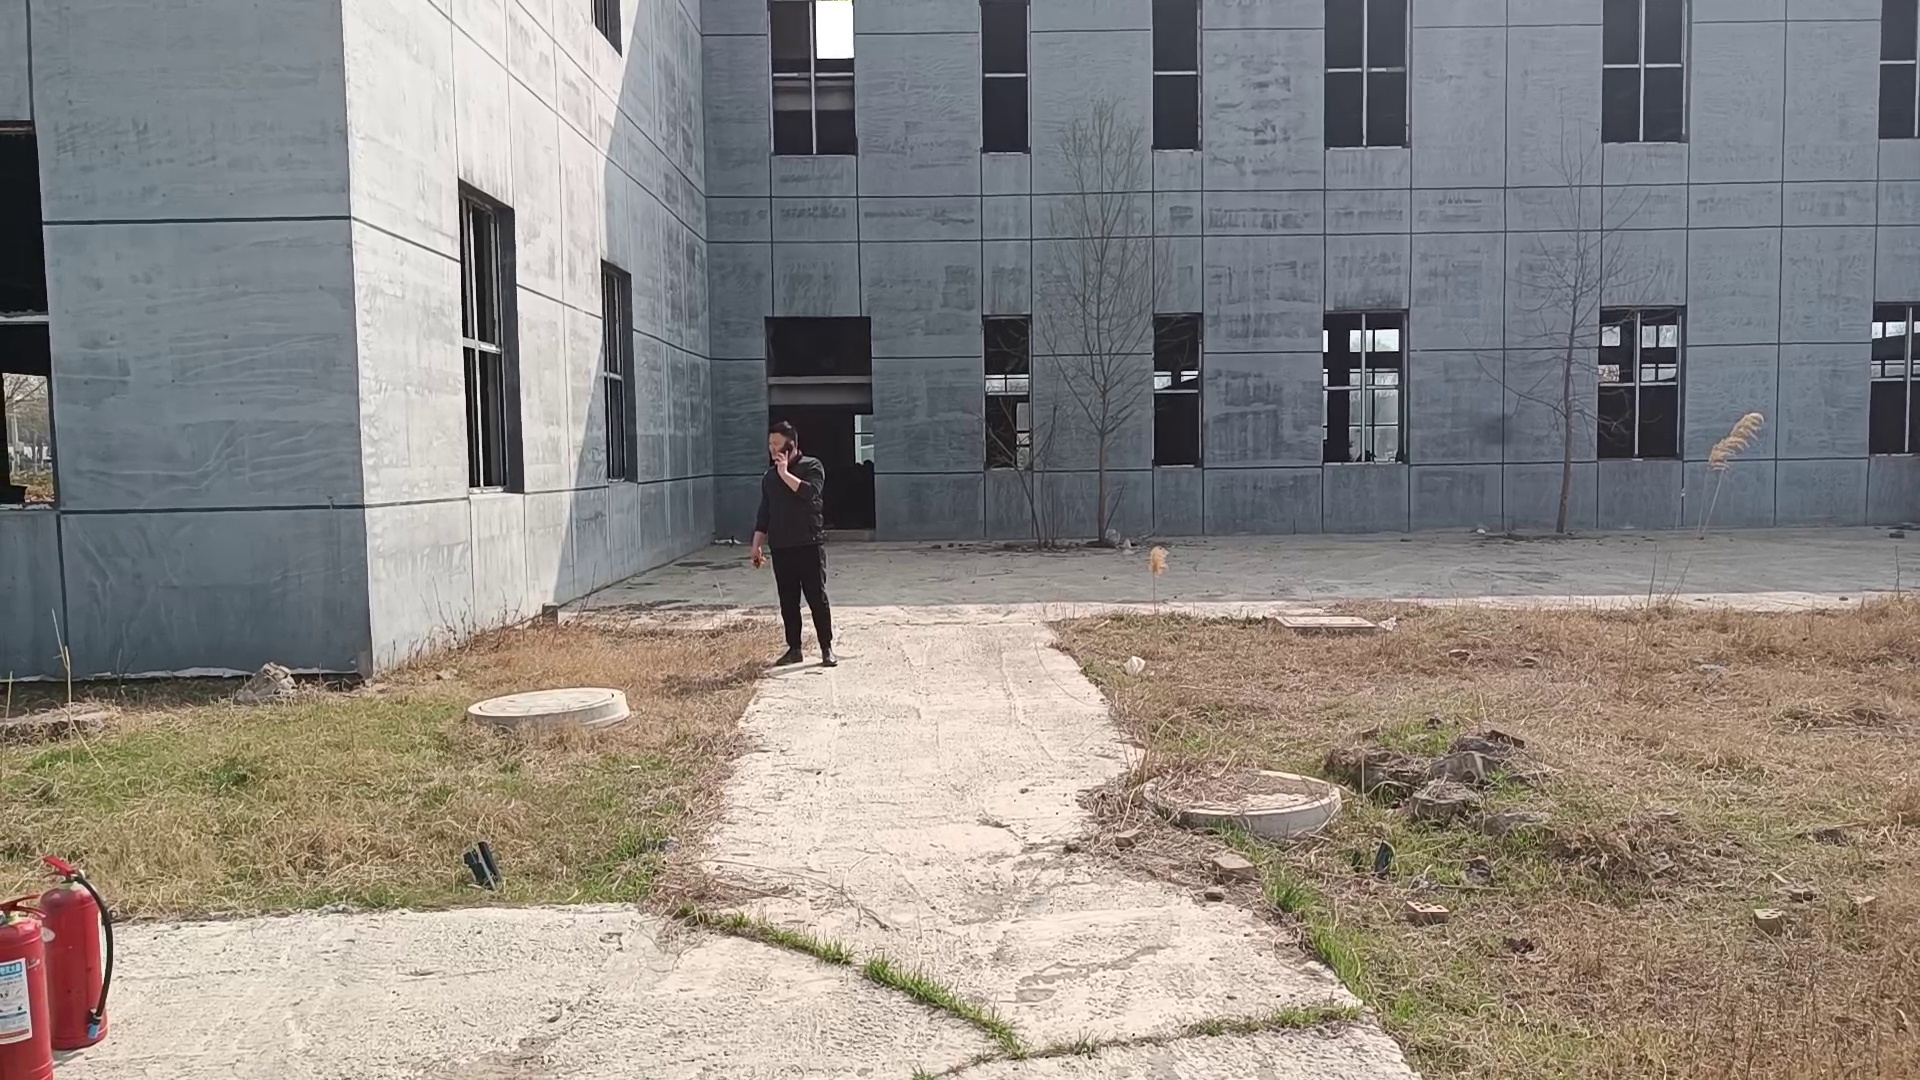phone: (756, 417, 808, 473)
